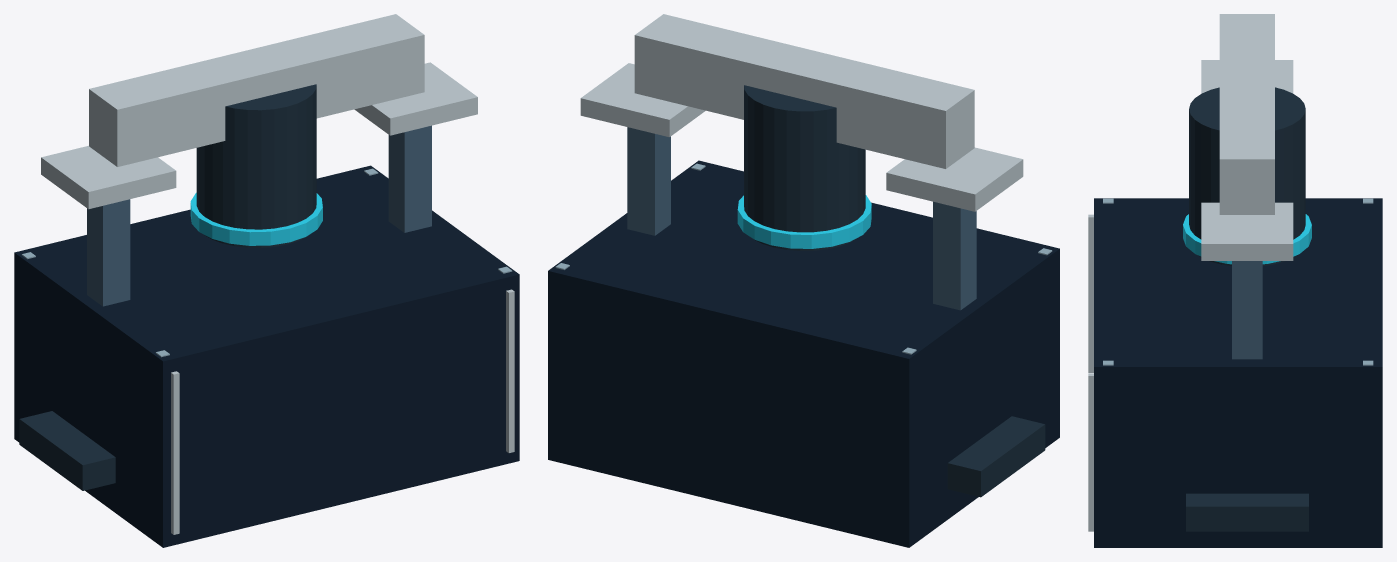
Rendered from 51_L75_DopantJunctionDepthScanner.fbx.
3 views of the same model, side by side, from view 1: azimuth 30°, elevation 25°; view 2: azimuth 150°, elevation 25°; view 3: azimuth 270°, elevation 25° (orthographic). The views are drawn at different scales.
Parts seen in each view (by area): view 1: DopantJunctionDepthScanner, DopantJunctionDepthScanner_Part_0007, DopantJunctionDepthScanner_Part_0008, DopantJunctionDepthScanner_Part_0009; view 2: DopantJunctionDepthScanner, DopantJunctionDepthScanner_Part_0007, DopantJunctionDepthScanner_Part_0008, DopantJunctionDepthScanner_Part_0009; view 3: DopantJunctionDepthScanner, DopantJunctionDepthScanner_Part_0007, DopantJunctionDepthScanner_Part_0008, DopantJunctionDepthScanner_Part_0009.
Boxes of the visible parts, <box> form: DopantJunctionDepthScanner: <box>14,62,519,547</box>; DopantJunctionDepthScanner_Part_0007: <box>89,14,424,166</box>; DopantJunctionDepthScanner_Part_0008: <box>196,84,316,247</box>; DopantJunctionDepthScanner_Part_0009: <box>190,192,322,245</box>; DopantJunctionDepthScanner: <box>548,63,1059,547</box>; DopantJunctionDepthScanner_Part_0007: <box>634,14,974,168</box>; DopantJunctionDepthScanner_Part_0008: <box>744,85,865,250</box>; DopantJunctionDepthScanner_Part_0009: <box>737,195,871,248</box>; DopantJunctionDepthScanner: <box>1088,60,1382,547</box>; DopantJunctionDepthScanner_Part_0007: <box>1219,14,1274,214</box>; DopantJunctionDepthScanner_Part_0008: <box>1189,87,1305,265</box>; DopantJunctionDepthScanner_Part_0009: <box>1183,214,1311,264</box>.
Size of the model in its own units: 152 by 134 by 95.76.
